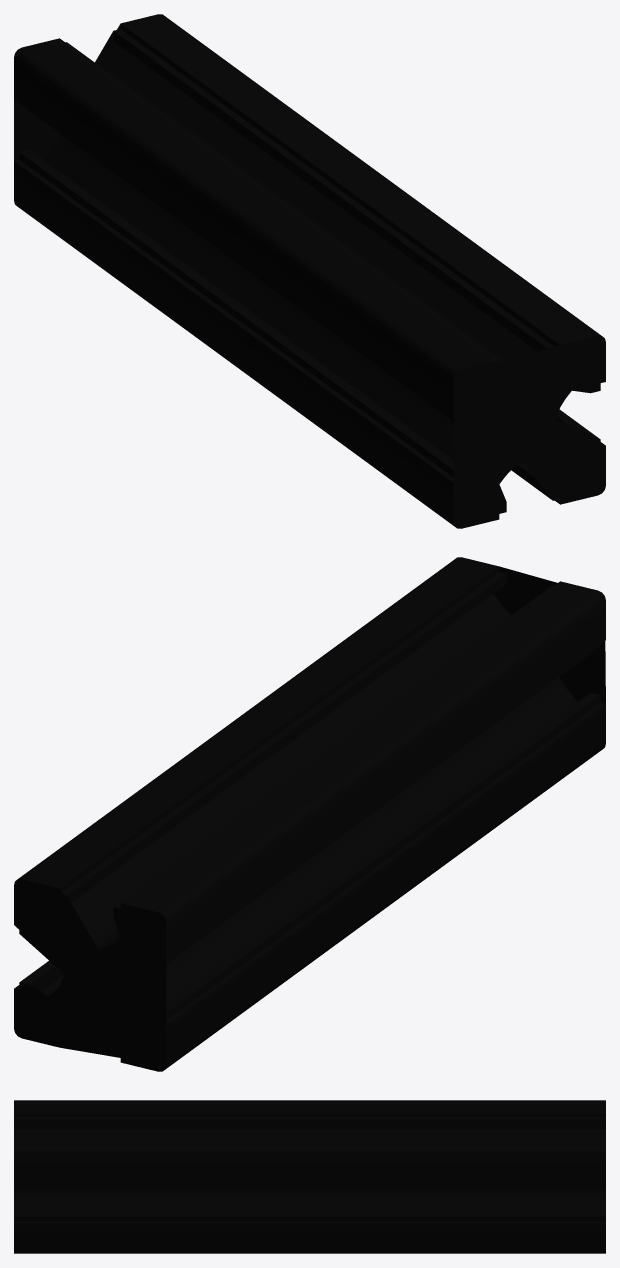
3 renders of one model, top to bottom at view 1: azimuth 30°, elevation 25°; view 2: azimuth 150°, elevation 25°; view 3: azimuth 270°, elevation 25°, orthographic. The views are drawn at different scales.
Visible parts, largest first — view 1: F20_20_b; view 2: F20_20_b; view 3: F20_20_b.
Boxes of the visible parts, x1,y1,x2,y2 form: F20_20_b: (14, 14, 605, 528); F20_20_b: (14, 557, 605, 1071); F20_20_b: (14, 1100, 605, 1253).
Size of the model in its own units: 120 by 120 by 600.
Materials: 1 (1 with a texture image).
